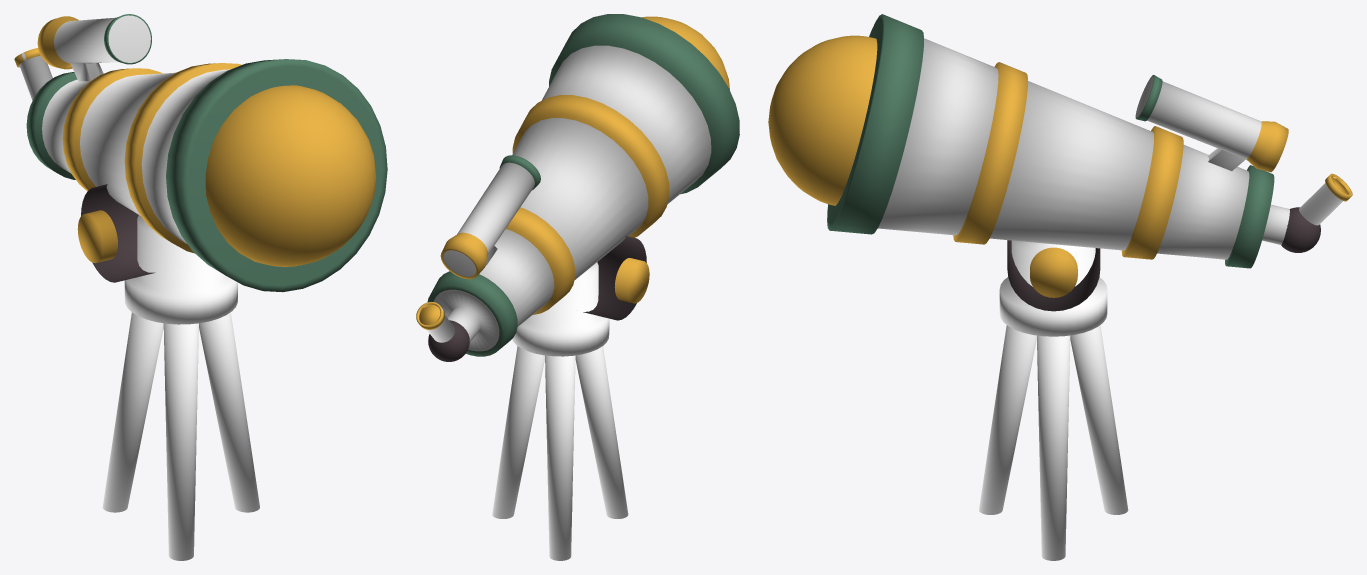
File: bouen.glb
3 views of the same model, side by side, from view 1: azimuth 30°, elevation 25°; view 2: azimuth 150°, elevation 25°; view 3: azimuth 270°, elevation 25° (orthographic). The views are drawn at different scales.
Visible parts, largest first — view 1: 円柱, 球, 円柱.004, 円柱.003, 円柱.001, 円柱.002, 円柱.005; view 2: 円柱, 円柱.004, 円柱.001, 円柱.003, 円柱.002, 球, 円柱.005, 球.001; view 3: 円柱, 円柱.004, 球, 円柱.001, 円柱.003, 円柱.002, 円柱.005, 球.001.
Boxes of the visible parts, x1,y1,x2,y2 form: 円柱: [26, 59, 387, 292]; 球: [205, 85, 376, 266]; 円柱.004: [102, 312, 259, 560]; 円柱.003: [124, 215, 237, 324]; 円柱.001: [37, 14, 151, 81]; 円柱.002: [77, 184, 155, 282]; 円柱.005: [14, 48, 52, 100]; 円柱: [427, 14, 739, 356]; 円柱.004: [492, 346, 628, 560]; 円柱.001: [440, 155, 540, 279]; 円柱.003: [512, 262, 609, 356]; 円柱.002: [583, 235, 649, 320]; 球: [642, 16, 729, 89]; 円柱.005: [416, 302, 454, 342]; 球.001: [428, 320, 469, 361]; 円柱: [827, 14, 1289, 268]; 円柱.004: [979, 325, 1128, 560]; 球: [768, 35, 877, 205]; 円柱.001: [1135, 75, 1288, 172]; 円柱.003: [999, 240, 1107, 336]; 円柱.002: [1007, 240, 1100, 311]; 円柱.005: [1299, 173, 1352, 225]; 球.001: [1281, 207, 1320, 252].
Size of the model in its own units: 1.05 by 2.6 by 2.75.
